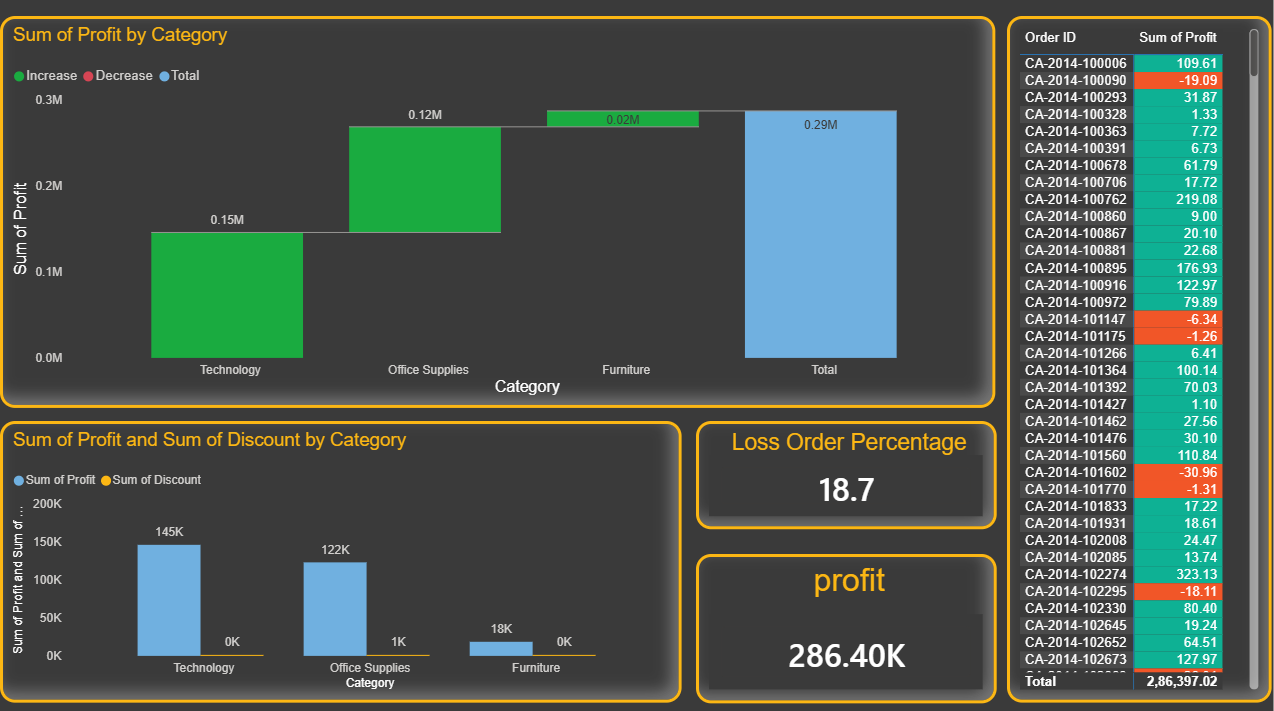

This screenshot's page, from the dashboard's own definition file:
{"tool":"powerbi","page":{"name":"Profitability and loss analysis","canvas":[1280,720],"ordinal":5},"visuals":[{"type":"waterfallChart","fields":{"Category":["Sample -- Superstore (2).Category"],"Y":["Sum(Sample -- Superstore (2).Profit)"]},"box":[10.5,23.2,993.1,391.4],"z":0},{"type":"clusteredColumnChart","fields":{"Category":["Sample -- Superstore (2).Category"],"Y":["Sum(Sample -- Superstore (2).Profit)","Sum(Sample -- Superstore (2).Discount)"]},"box":[10,427,680.4,281.3],"z":1000},{"type":"pivotTable","fields":{"Rows":["Sample -- Superstore (2).Order ID"],"Values":["Sum(Sample -- Superstore (2).Profit)"]},"box":[1014.6,22.9,264.4,685.4],"z":2000},{"type":"cardVisual","title":"Loss Order Percentage","fields":{"Data":["Sample -- Superstore (2).LossOrdersPercent"]},"box":[703.9,427.4,299.7,108],"z":3000},{"type":"cardVisual","title":"profit","fields":{"Data":["Sum(Sample -- Superstore (2).Profit)"]},"box":[703.9,559.9,299.7,148.7],"z":4000}]}

Visuals, with their boxes in screenshot pixels (x1, y1, x2, y2), scaled from the page's 1280x720 canvas onto the 1274x711 screenshot:
waterfallChart - Sample -- Superstore (2).Category x Sum(Sample -- Superstore (2).Profit): BBox(10, 23, 999, 409)
clusteredColumnChart - Sample -- Superstore (2).Category x Sum(Sample -- Superstore (2).Profit): BBox(10, 422, 687, 699)
pivotTable - Sample -- Superstore (2).Order ID x Sum(Sample -- Superstore (2).Profit): BBox(1010, 23, 1273, 699)
"Loss Order Percentage" cardVisual: BBox(701, 422, 999, 529)
"profit" cardVisual: BBox(701, 553, 999, 700)
